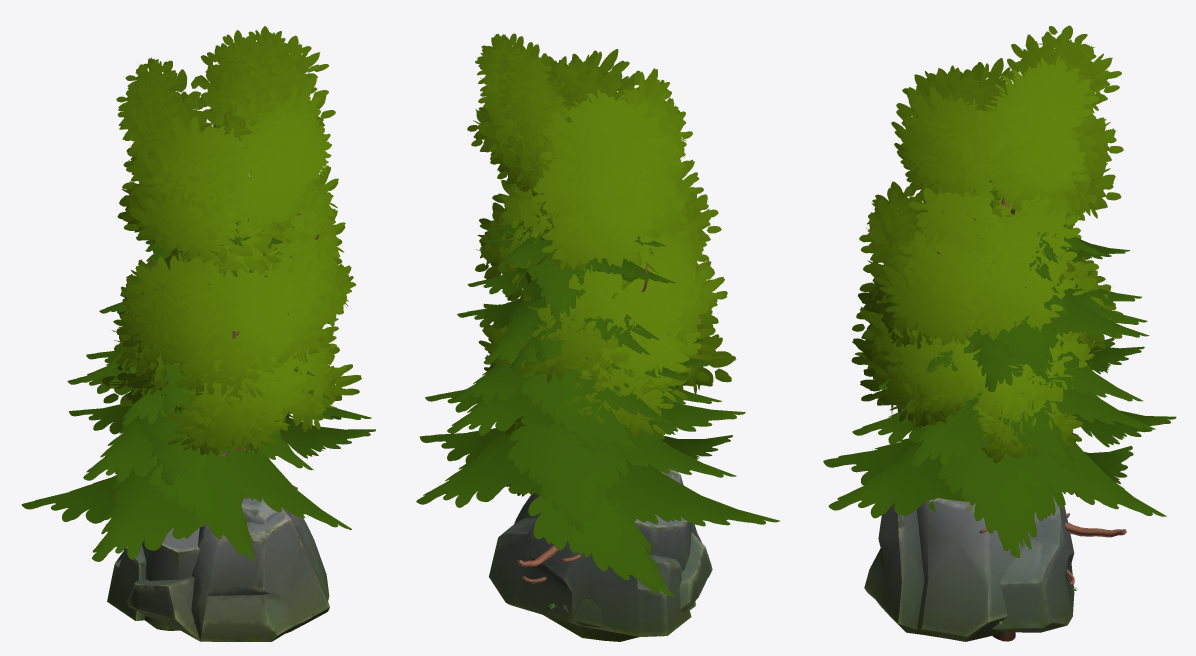
The model's file is aether_nature.glb.
The picture shows the model from 3 angles, left to right: view 1: azimuth 30°, elevation 25°; view 2: azimuth 150°, elevation 25°; view 3: azimuth 270°, elevation 25°; orthographic projection. The views are drawn at different scales.
Parts seen in each view (by area): view 1: CommonTree_3, Pine_2, CommonTree_1, CommonTree_4, Rock_Medium_1, Rock_Medium_2, Pine_3; view 2: Pine_2, CommonTree_3, CommonTree_1, CommonTree_4, Rock_Medium_2, Pine_3, Rock_Medium_1; view 3: Pine_2, CommonTree_4, CommonTree_1, CommonTree_3, Rock_Medium_1, Rock_Medium_2, Pine_3.
Part boxes in pixels (bbox=[...]): CommonTree_3: bbox=[116, 30, 356, 451]; Pine_2: bbox=[21, 221, 375, 561]; CommonTree_1: bbox=[101, 177, 361, 455]; CommonTree_4: bbox=[123, 26, 338, 456]; Rock_Medium_1: bbox=[126, 497, 329, 641]; Rock_Medium_2: bbox=[107, 528, 199, 630]; Pine_3: bbox=[67, 228, 329, 489]; Pine_2: bbox=[416, 224, 779, 596]; CommonTree_3: bbox=[478, 42, 721, 406]; CommonTree_1: bbox=[475, 183, 736, 439]; CommonTree_4: bbox=[467, 33, 692, 292]; Rock_Medium_2: bbox=[489, 514, 695, 636]; Pine_3: bbox=[453, 201, 721, 583]; Rock_Medium_1: bbox=[514, 468, 712, 641]; Pine_2: bbox=[823, 180, 1176, 557]; CommonTree_4: bbox=[891, 25, 1123, 641]; CommonTree_1: bbox=[851, 190, 1123, 633]; CommonTree_3: bbox=[856, 40, 1121, 640]; Rock_Medium_1: bbox=[864, 498, 1030, 641]; Rock_Medium_2: bbox=[992, 495, 1074, 632]; Pine_3: bbox=[878, 232, 1149, 585].
Bounding box in the file's own units: 5.73 × 9.47 × 5.22.
8 materials, 8 textured.
